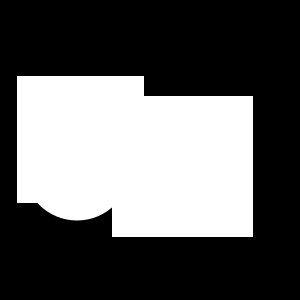circle: (112, 96, 253, 237), (17, 76, 144, 203)
rectangle: (23, 113, 130, 220)
